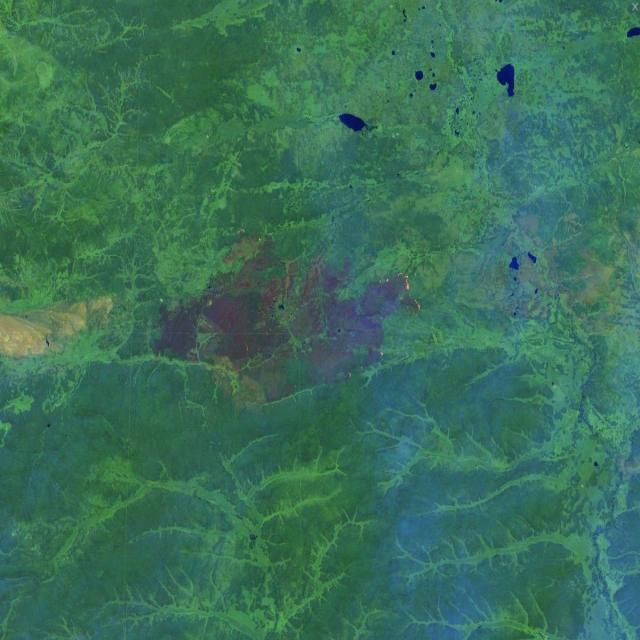fire: (377, 267, 423, 322)
